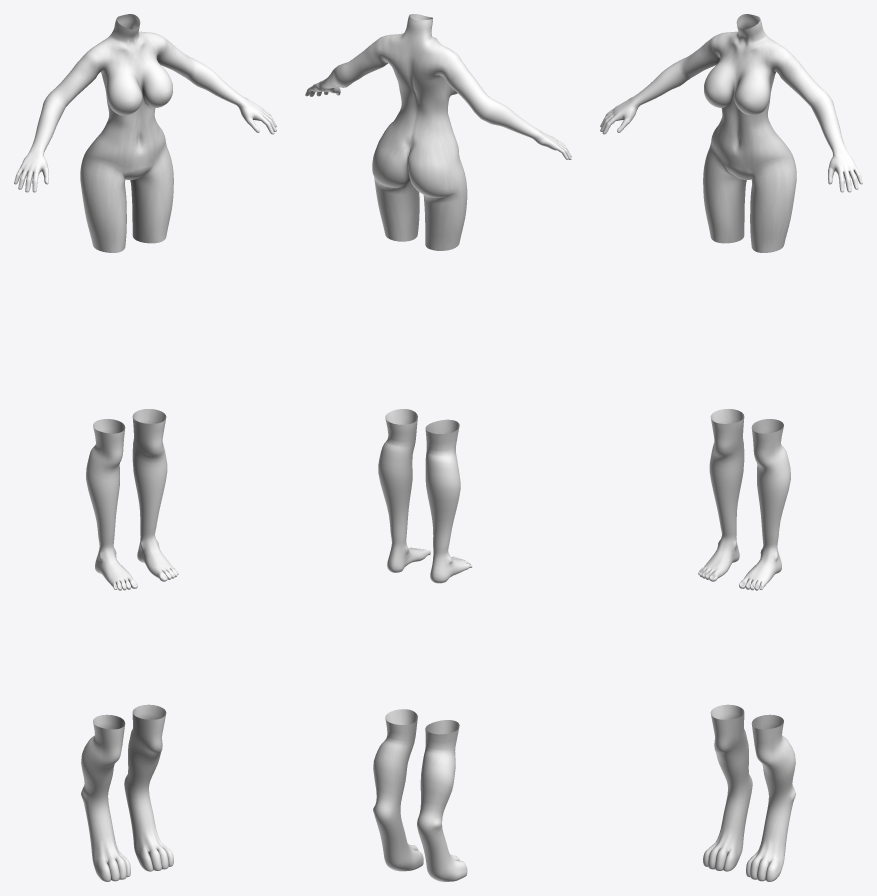
Rendered from MyBody substance painter AO.obj.
3 views of the same model, side by side, from view 1: azimuth 30°, elevation 25°; view 2: azimuth 150°, elevation 25°; view 3: azimuth 330°, elevation 25° (orthographic).
Visible parts, largest first — view 1: Body, Digilegs, PlantiLegs; view 2: Body, Digilegs, PlantiLegs; view 3: Body, Digilegs, PlantiLegs.
Boxes of the visible parts, left/top/right/bottom form: Body: left=14, top=14, right=276, bottom=252; Digilegs: left=81, top=704, right=173, bottom=881; PlantiLegs: left=86, top=409, right=178, bottom=590; Body: left=305, top=14, right=571, bottom=250; Digilegs: left=373, top=709, right=467, bottom=881; PlantiLegs: left=378, top=409, right=472, bottom=583; Body: left=600, top=14, right=862, bottom=252; Digilegs: left=703, top=704, right=795, bottom=881; PlantiLegs: left=698, top=409, right=790, bottom=590.
Bounding box in the file's own units: 1.15 × 3.6 × 0.355.
1 material, 1 textured.
